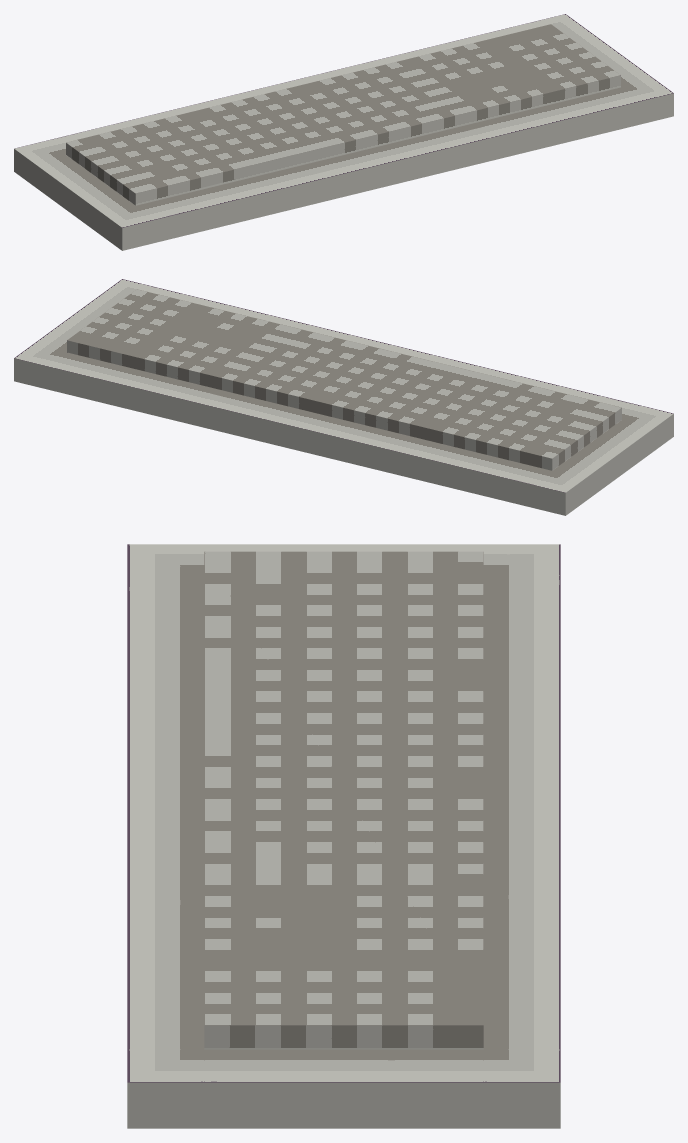
Rendered from SM_Keyboard.fbx.
3 renders of one model, top to bottom at view 1: azimuth 30°, elevation 25°; view 2: azimuth 150°, elevation 25°; view 3: azimuth 270°, elevation 25°, orthographic. The views are drawn at different scales.
Visible parts, largest first — view 1: pCube1; view 2: pCube1; view 3: pCube1.
Part boxes in pixels (x1,y1,x2,y2): pCube1: (14, 14, 673, 250); pCube1: (14, 279, 673, 515); pCube1: (127, 544, 560, 1128).
Size of the model in its own units: 50 by 3.05 by 17.
1 material, 1 textured.
